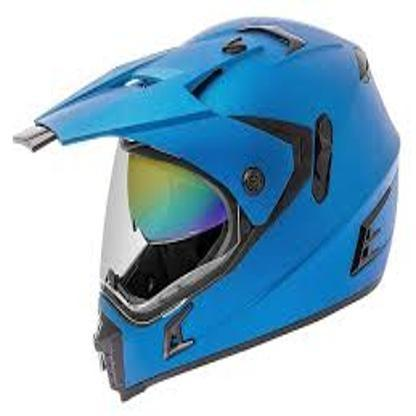not trash: (9, 12, 400, 398)
